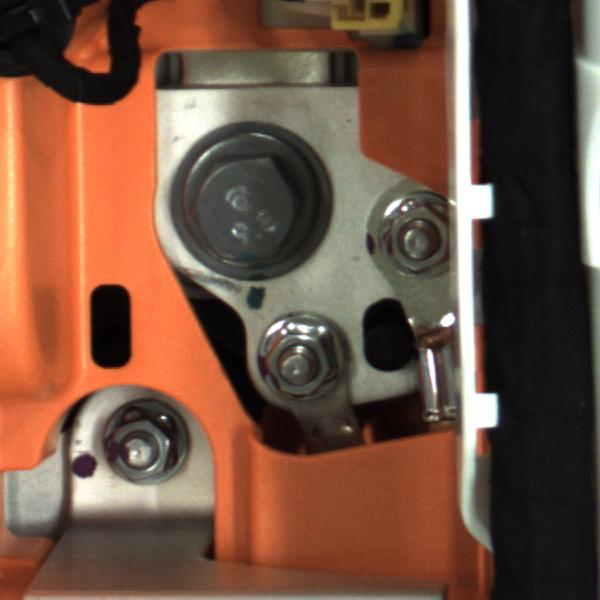nut_b: (181, 141, 316, 281)
screw_s: (95, 400, 212, 494), (251, 315, 349, 401), (374, 196, 461, 286)
